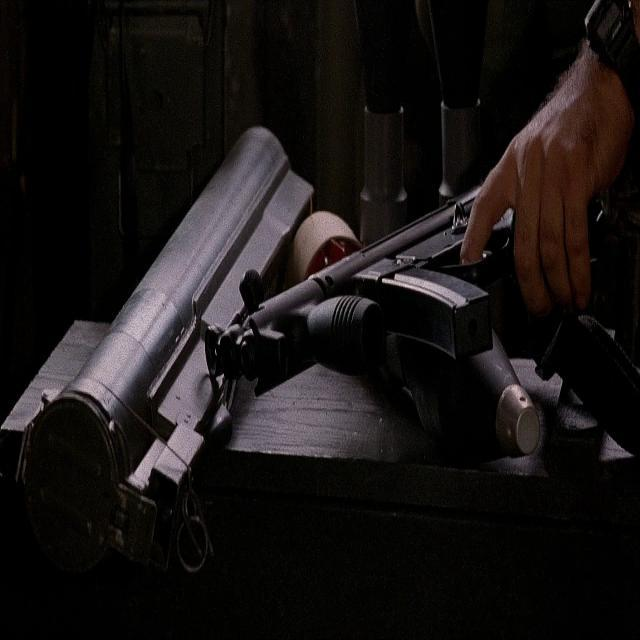gun-knife-thesis - v11 Yolov5 augmented: (196, 157, 616, 415)
